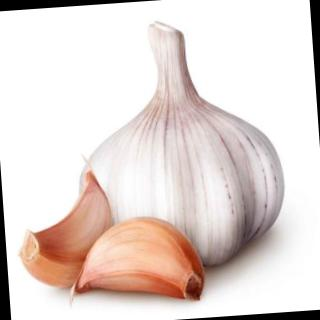Bawang Putih: (70, 13, 291, 276), (75, 211, 208, 310), (14, 169, 119, 293)
